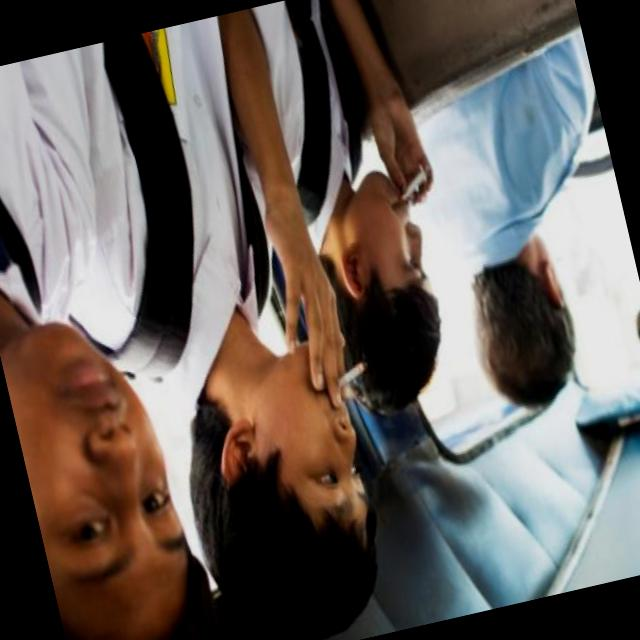cigarette: (317, 342, 387, 417), (384, 156, 448, 227)
